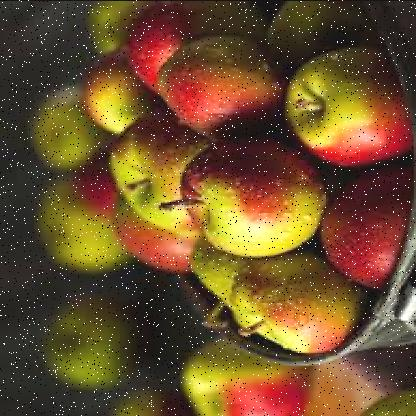apple: (178, 134, 326, 252), (293, 36, 408, 166), (152, 28, 283, 128), (238, 242, 348, 350), (184, 331, 308, 416), (116, 110, 206, 226), (320, 178, 414, 282), (115, 192, 202, 278), (77, 46, 150, 136), (124, 13, 192, 91)
